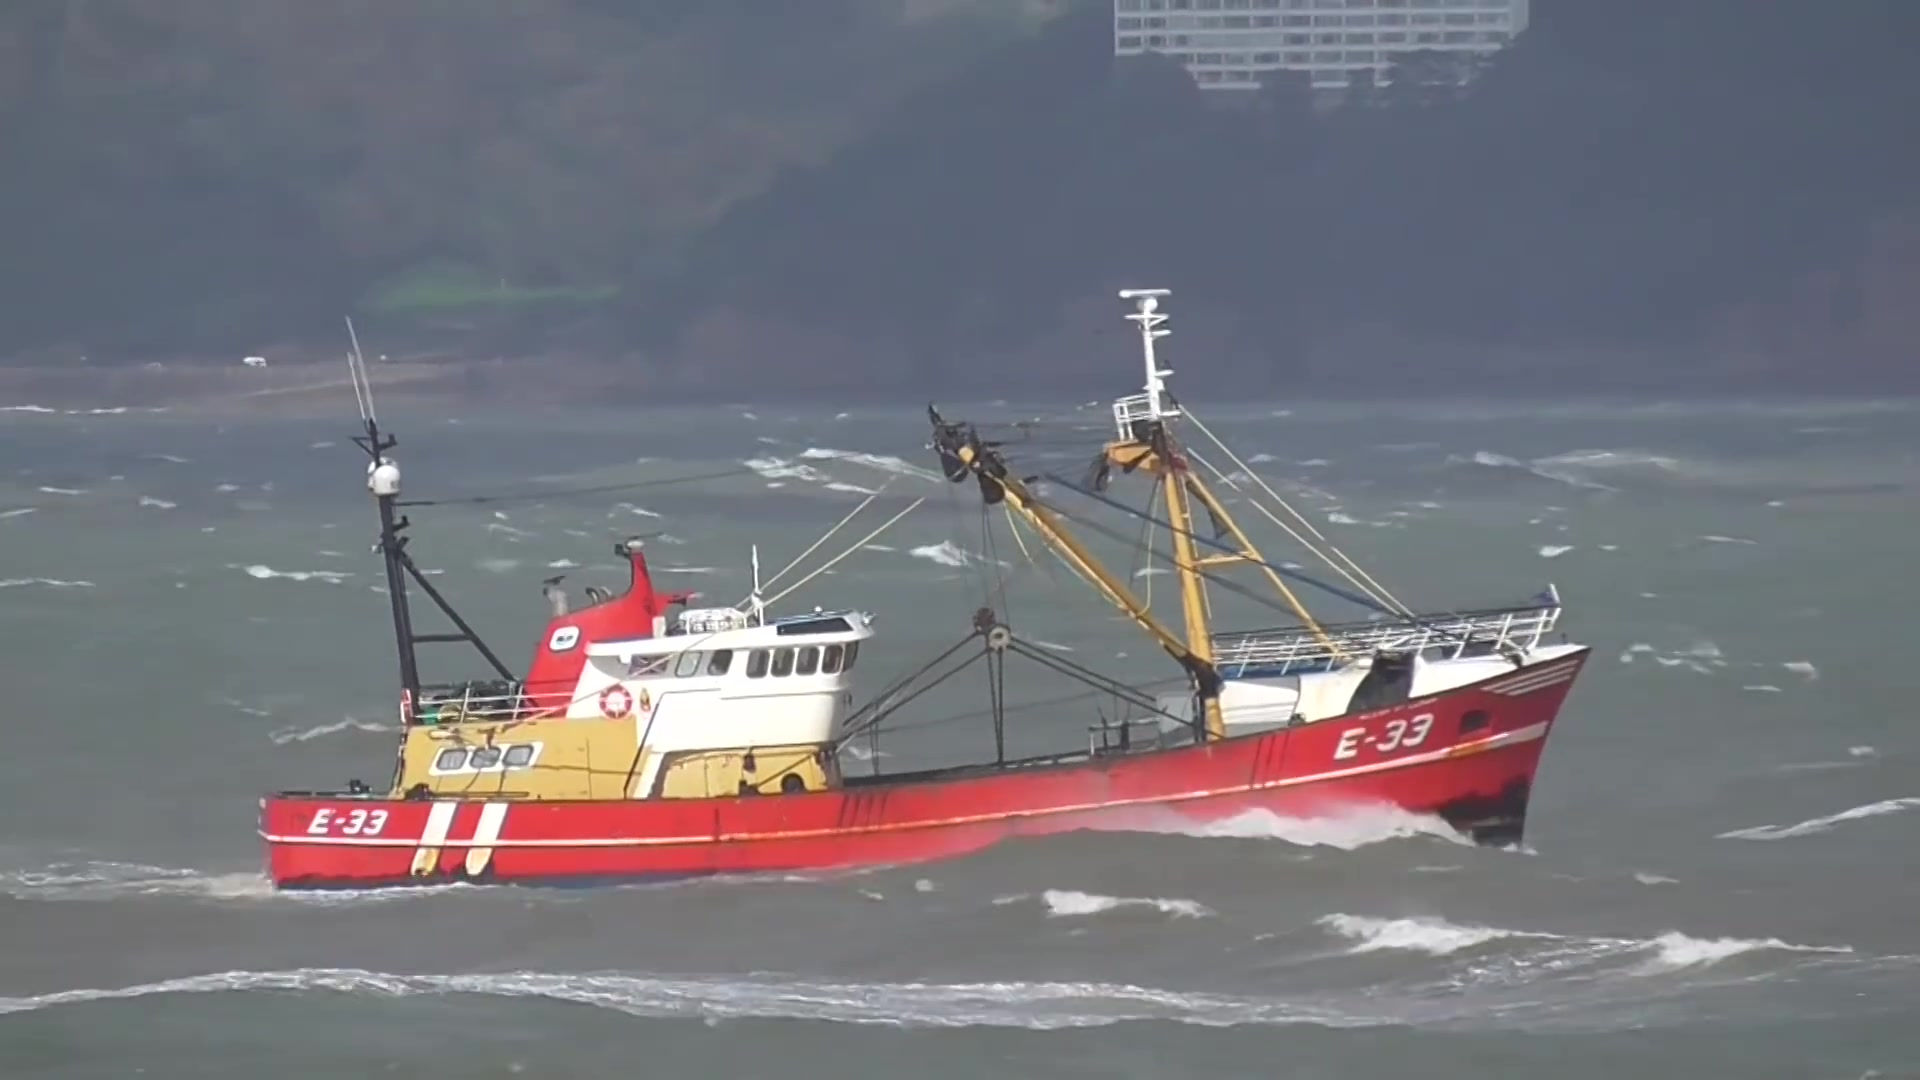CommonShip: (256, 320, 1582, 907)
